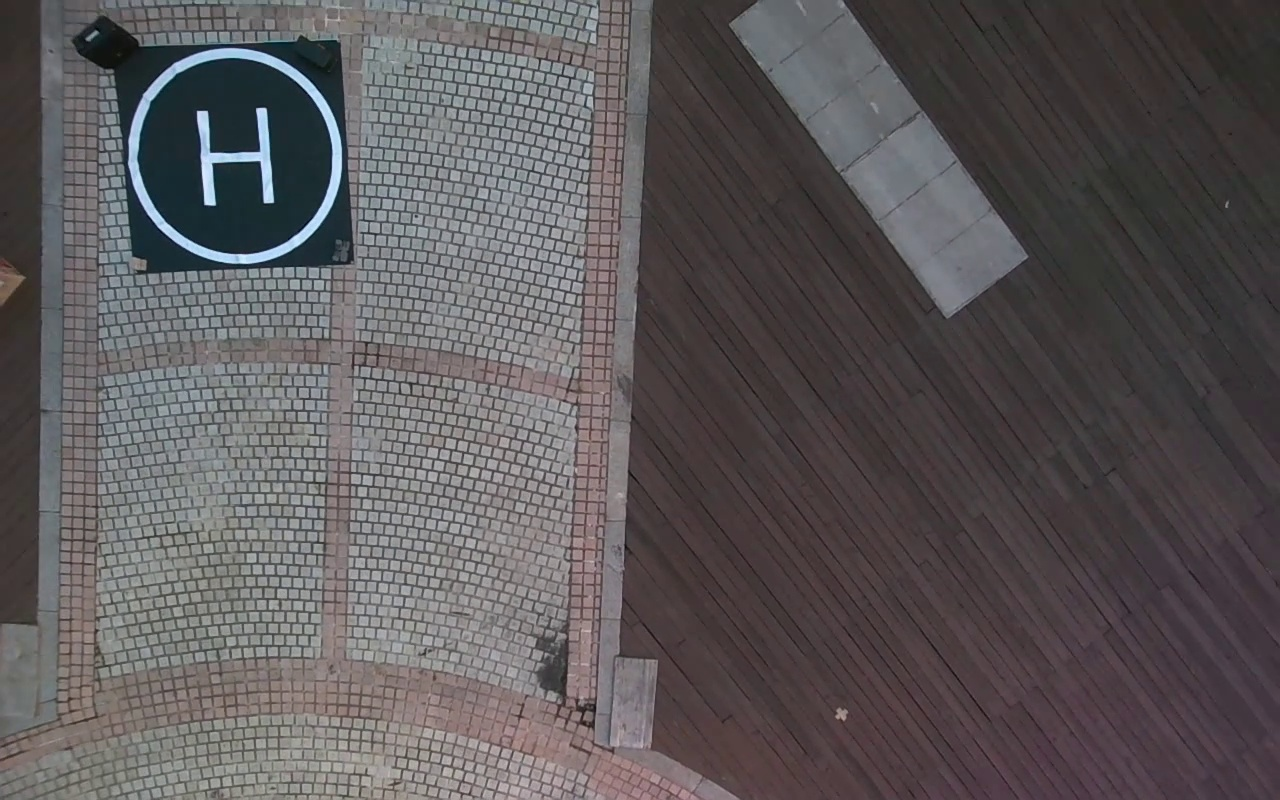H: (195, 108, 274, 207)
heliport: (128, 46, 343, 267)
